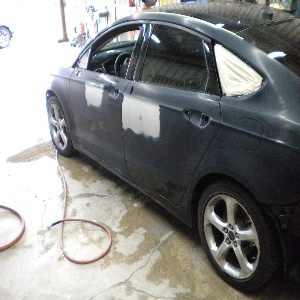door_scratch: (73, 81, 175, 154)
